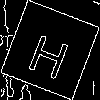H: (25, 25, 75, 81)
